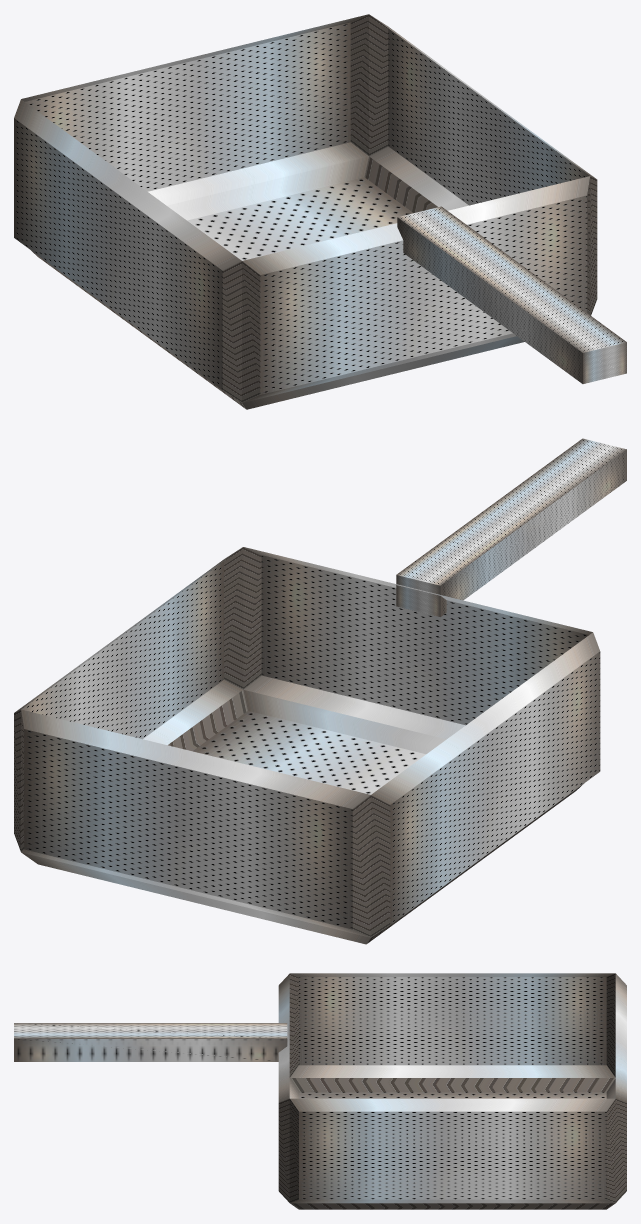
File: huraiya-2.FBX
The picture shows the model from 3 angles, top to bottom: view 1: azimuth 30°, elevation 25°; view 2: azimuth 150°, elevation 25°; view 3: azimuth 270°, elevation 25°; orthographic projection. The views are drawn at different scales.
Visible parts, largest first — view 1: Box001, Box002; view 2: Box001, Box002; view 3: Box001, Box002.
Boxes of the visible parts, x1,y1,x2,y2 form: Box001: (14,14,597,409); Box002: (397,206,626,383); Box001: (14,547,600,944); Box002: (396,438,626,616); Box001: (278,973,626,1209); Box002: (14,1023,287,1061).
Bounding box in the file's own units: 35.09 × 67.51 × 14.64.
